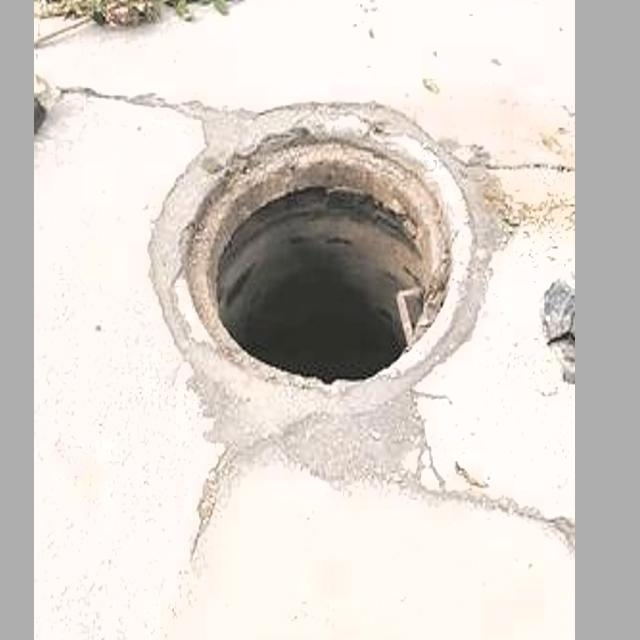lose: (140, 92, 501, 411)
